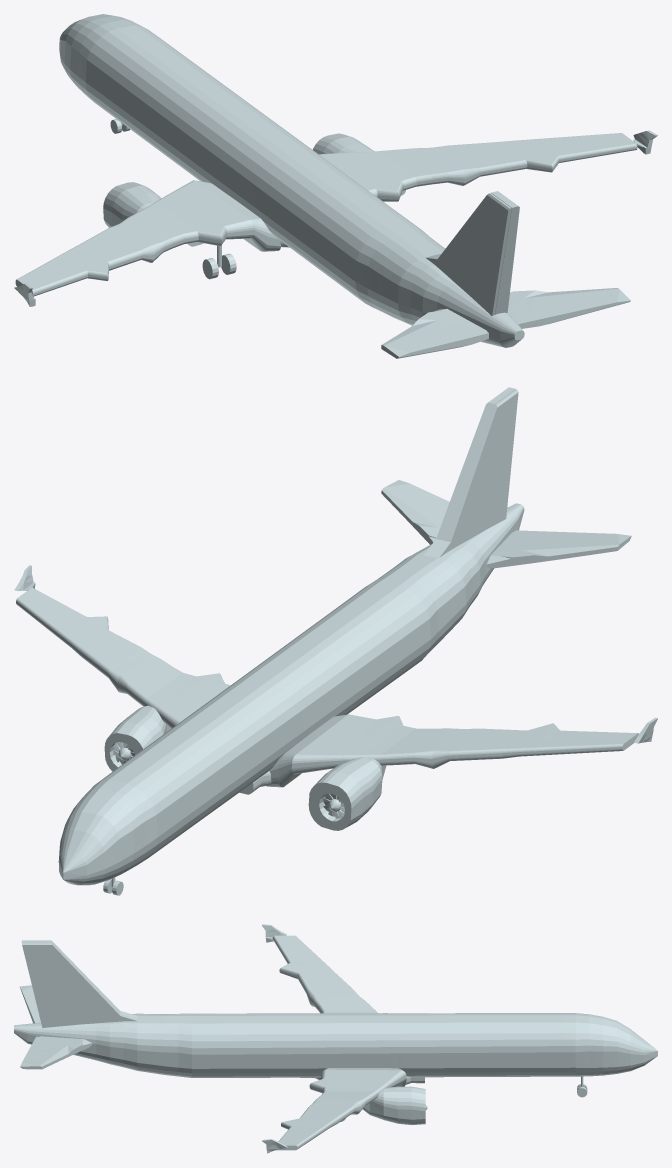
3 renders of one model, top to bottom at view 1: azimuth 30°, elevation 25°; view 2: azimuth 150°, elevation 25°; view 3: azimuth 270°, elevation 25°, orthographic. The views are drawn at different scales.
Visible parts, largest first — view 1: Aircraft visual hull, Landing gear; view 2: Aircraft visual hull; view 3: Aircraft visual hull.
Boxes of the visible parts, box(x1,y1,x2,y2) form: Aircraft visual hull: box(14, 14, 657, 358); Landing gear: box(110, 119, 236, 279); Aircraft visual hull: box(14, 387, 657, 885); Aircraft visual hull: box(14, 924, 657, 1153).
Size of the model in its own units: 35.51 by 11.66 by 44.61.
